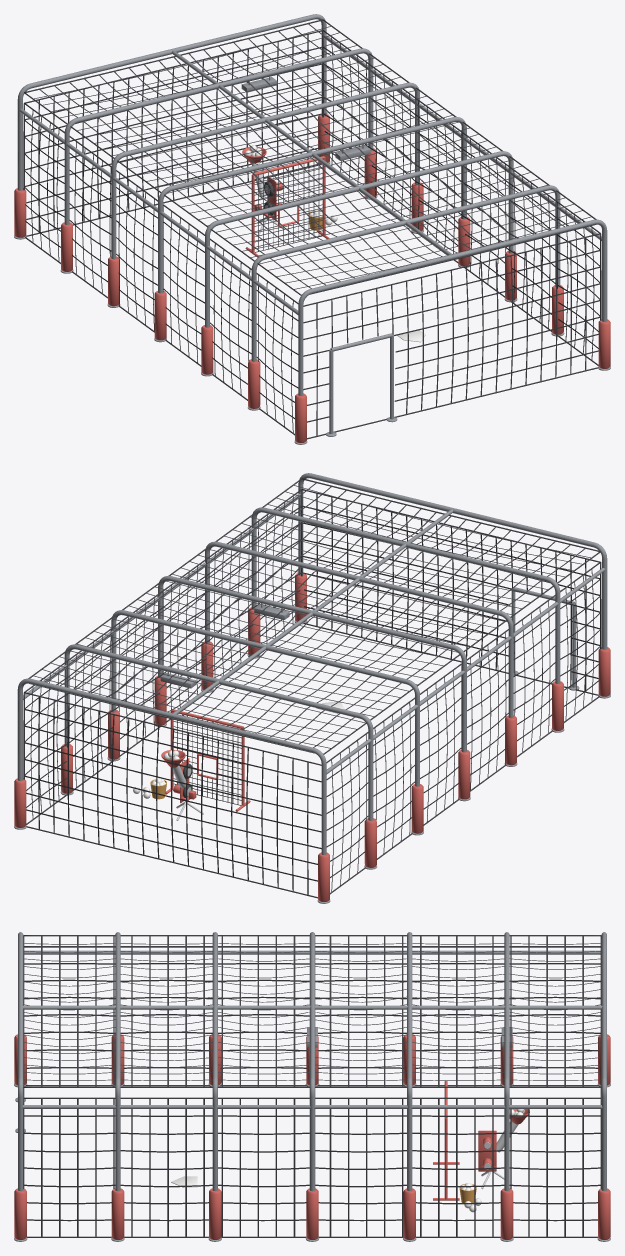
The model's file is TrainingCage.fbx.
3 views of the same model, one above another, from view 1: azimuth 30°, elevation 25°; view 2: azimuth 150°, elevation 25°; view 3: azimuth 270°, elevation 25° (orthographic). The views are drawn at different scales.
Parts seen in each view (by area): view 1: CageFrame, NetRoof, NetLeft, NetBack, CagePads, NetRight, NetFront, ScreenNet, ScreenFrame, LightHousing; view 2: CageFrame, NetRoof, NetFront, NetLeft, CagePads, NetRight, NetBack, ScreenNet, ScreenFrame, LightHousing; view 3: NetRoof, CageFrame, NetRight, NetLeft, CagePads, MachineBody, ScreenFrame.
Part boxes in pixels (box(x1,y1,x2,y2)): CageFrame: box(14, 14, 610, 444); NetRoof: box(24, 19, 596, 295); NetLeft: box(23, 102, 298, 435); NetBack: box(303, 233, 601, 439); CagePads: box(14, 114, 610, 442); NetRight: box(322, 30, 601, 365); NetFront: box(23, 30, 323, 236); ScreenNet: box(254, 161, 322, 252); ScreenFrame: box(245, 156, 329, 257); LightHousing: box(241, 76, 370, 160); CageFrame: box(14, 473, 610, 903); NetRoof: box(28, 478, 600, 754); NetFront: box(24, 692, 321, 898); NetLeft: box(326, 561, 601, 894); CagePads: box(14, 573, 610, 901); NetRight: box(23, 489, 302, 824); NetBack: box(301, 489, 601, 695); ScreenNet: box(173, 714, 241, 805); ScreenFrame: box(165, 709, 250, 811); LightHousing: box(160, 603, 289, 688); NetRoof: box(23, 935, 601, 1087); CageFrame: box(14, 932, 610, 1241); NetRight: box(23, 1097, 601, 1237); NetLeft: box(24, 946, 600, 1086); CagePads: box(14, 1034, 610, 1239); MachineBody: box(478, 1109, 529, 1171); ScreenFrame: box(433, 1081, 459, 1200).
Bounding box in the file's own units: 777 × 356 × 1227.
